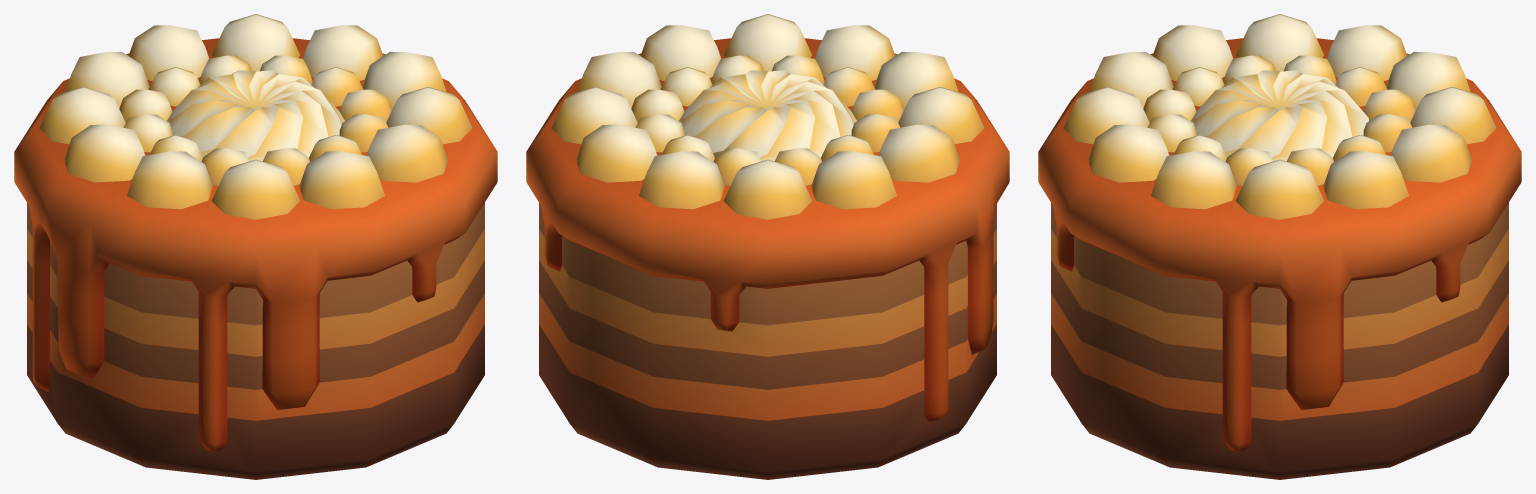
Rendered from m_ToffeeCake01.fbx.
3 renders of one model, left to right at view 1: azimuth 30°, elevation 25°; view 2: azimuth 150°, elevation 25°; view 3: azimuth 270°, elevation 25°, orthographic.
Parts seen in each view (by area): view 1: m_ToffeeCake01; view 2: m_ToffeeCake01; view 3: m_ToffeeCake01.
Boxes of the visible parts, x1,y1,x2,y2 form: m_ToffeeCake01: (14,14,497,479); m_ToffeeCake01: (526,14,1009,479); m_ToffeeCake01: (1038,14,1521,479).
Bounding box in the file's own units: 22.34 × 15.23 × 22.34.
